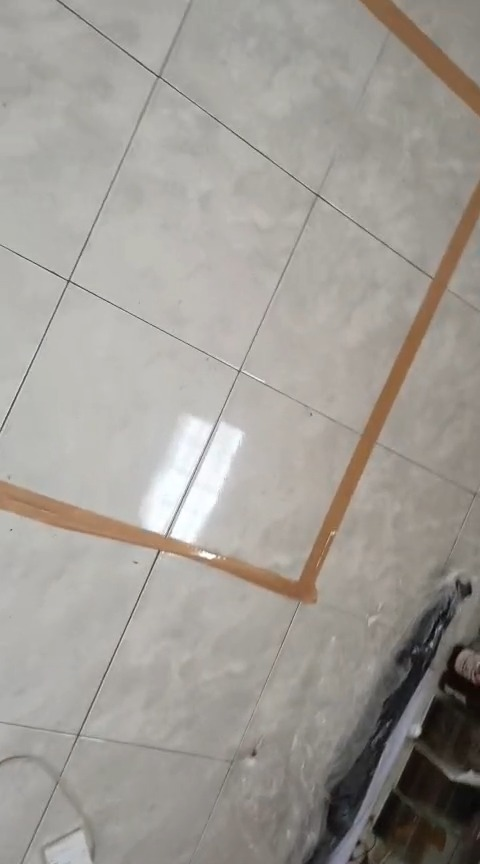floor marking: (0, 181, 479, 602), (361, 0, 479, 116)
